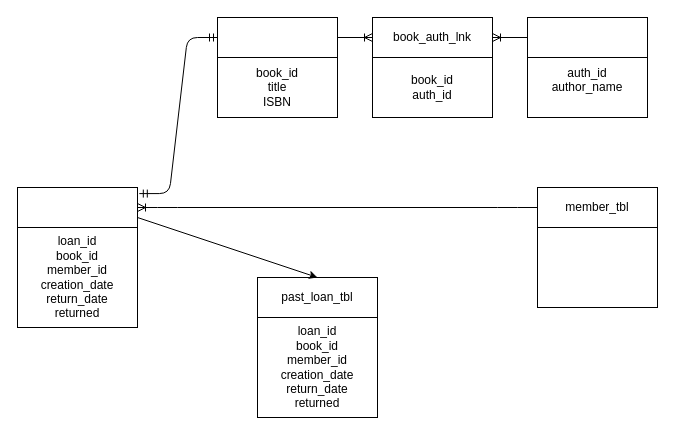
Image size: 675x435. Some labels were removed from this diagram. Each missing label, with the centre of its shape:
active_loan_tbl: the point at 77,207
auth_tbl: the point at 587,37
book_tbl: the point at 277,37
member_id name pw_hash postcode: the point at 597,267
